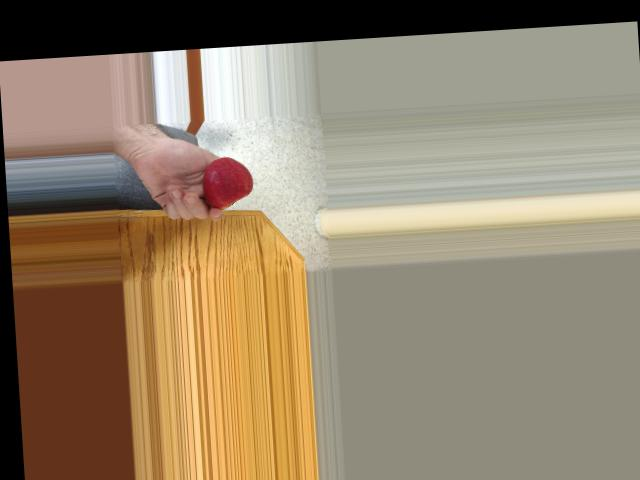apple: (200, 156, 257, 208)
